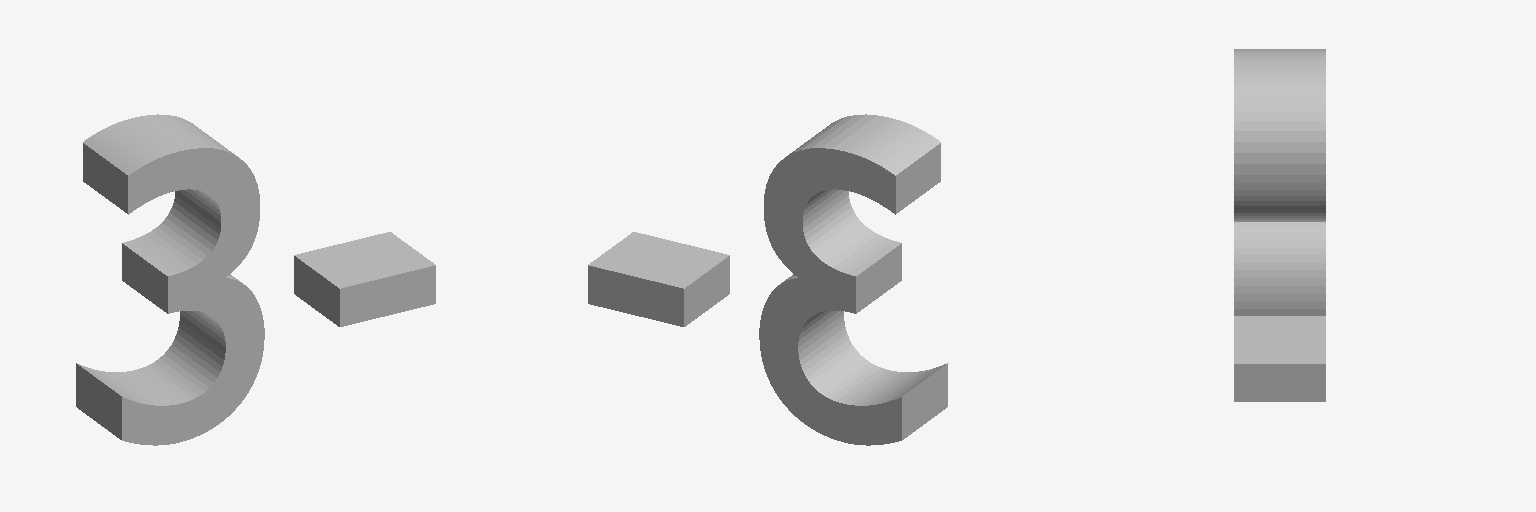
The model's file is three.obj.
3 renders of one model, left to right at view 1: azimuth 30°, elevation 25°; view 2: azimuth 150°, elevation 25°; view 3: azimuth 270°, elevation 25°, orthographic.
Visible parts, largest first — view 1: Blue_Team__Text; view 2: Blue_Team__Text; view 3: Blue_Team__Text.
Boxes of the visible parts, x1,y1,x2,y2 form: Blue_Team__Text: [76, 114, 435, 445]; Blue_Team__Text: [588, 114, 947, 445]; Blue_Team__Text: [1234, 49, 1325, 401].
Size of the model in its own units: 0.7914 by 0.7 by 0.2.